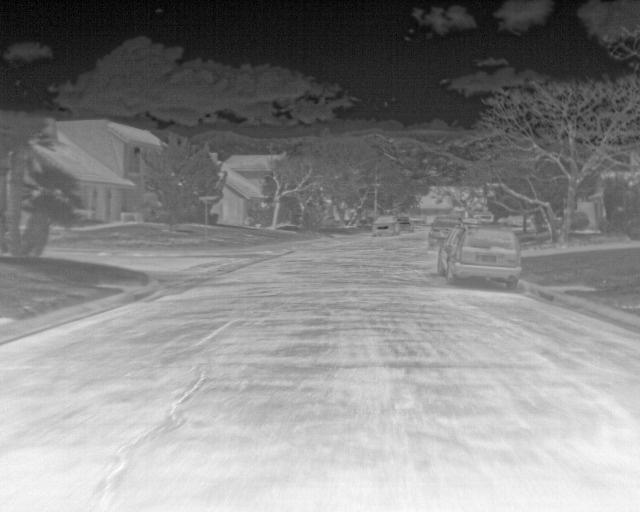car: (437, 223, 523, 291), (368, 211, 401, 238), (427, 218, 450, 250), (400, 214, 416, 234)
